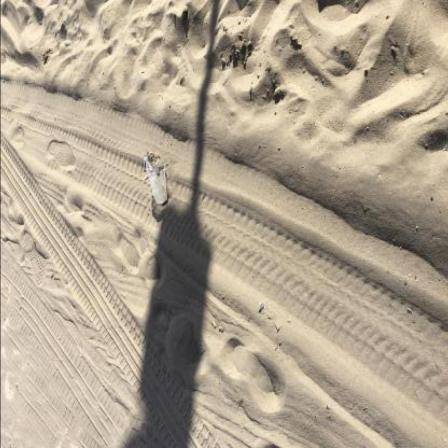Cigarette: (212, 321, 217, 330)
Cup: (148, 165, 168, 205)
Unlabeled litter: (145, 152, 157, 182)
